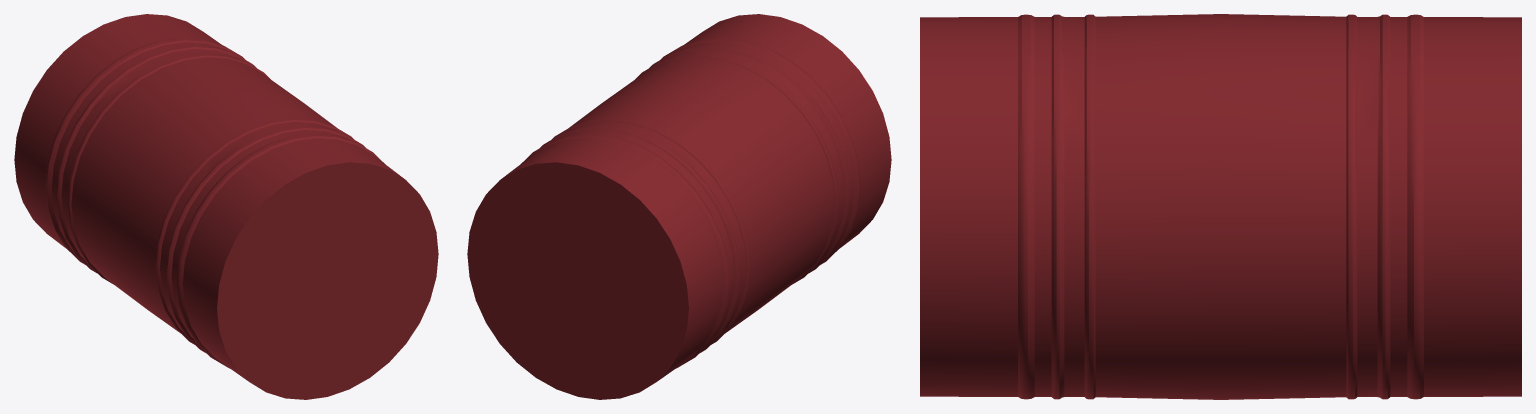
The model's file is Redbarrel.fbx.
3 views of the same model, side by side, from view 1: azimuth 30°, elevation 25°; view 2: azimuth 150°, elevation 25°; view 3: azimuth 270°, elevation 25° (orthographic). The views are drawn at different scales.
Visible parts, largest first — view 1: Cylinder; view 2: Cylinder; view 3: Cylinder.
Part boxes in pixels (x1,y1,x2,y2): Cylinder: (14,14,438,399); Cylinder: (467,14,891,399); Cylinder: (920,14,1521,399).
Bounding box in the file's own units: 253 × 248 × 386.
